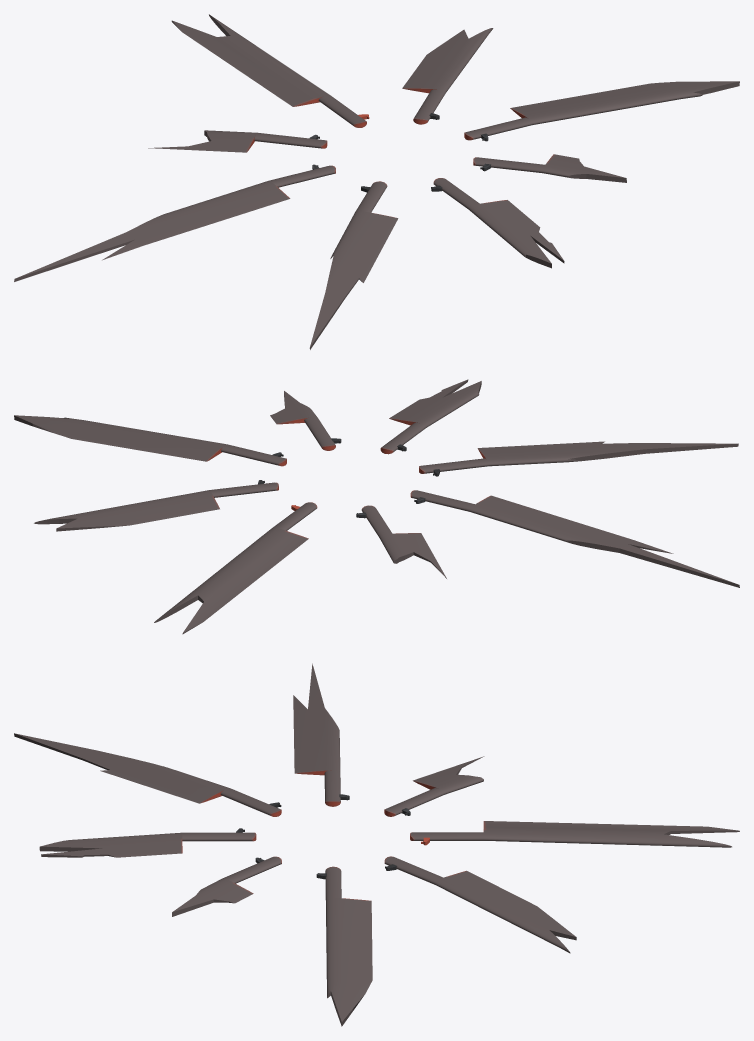
File: xuanyi_sunhuai.FBX
3 renders of one model, top to bottom at view 1: azimuth 30°, elevation 25°; view 2: azimuth 150°, elevation 25°; view 3: azimuth 270°, elevation 25°, orthographic. The views are drawn at different scales.
Parts seen in each view (by area): view 1: xuanyi_hui; view 2: xuanyi_hui; view 3: xuanyi_hui.
Part boxes in pixels (x1,y1,x2,y2): xuanyi_hui: (14, 14, 739, 349); xuanyi_hui: (14, 379, 739, 634); xuanyi_hui: (14, 663, 739, 1026).
Size of the model in its own units: 16.24 by 0.5782 by 13.61.
1 material, 1 textured.
